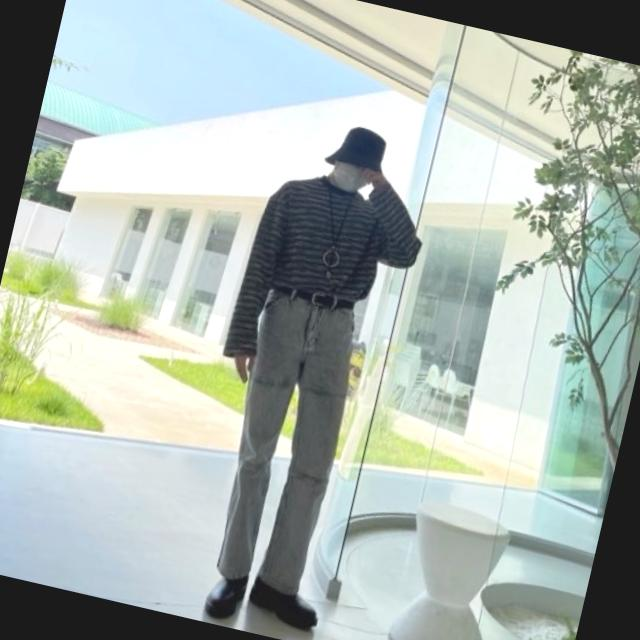denimpants: (200, 278, 371, 600)
longsleeve: (220, 153, 433, 389)
